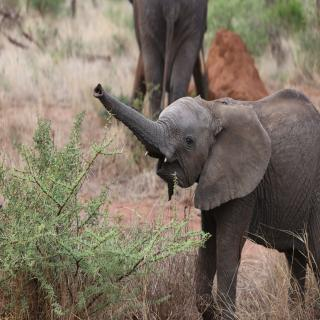Elephant: (90, 68, 320, 320)
